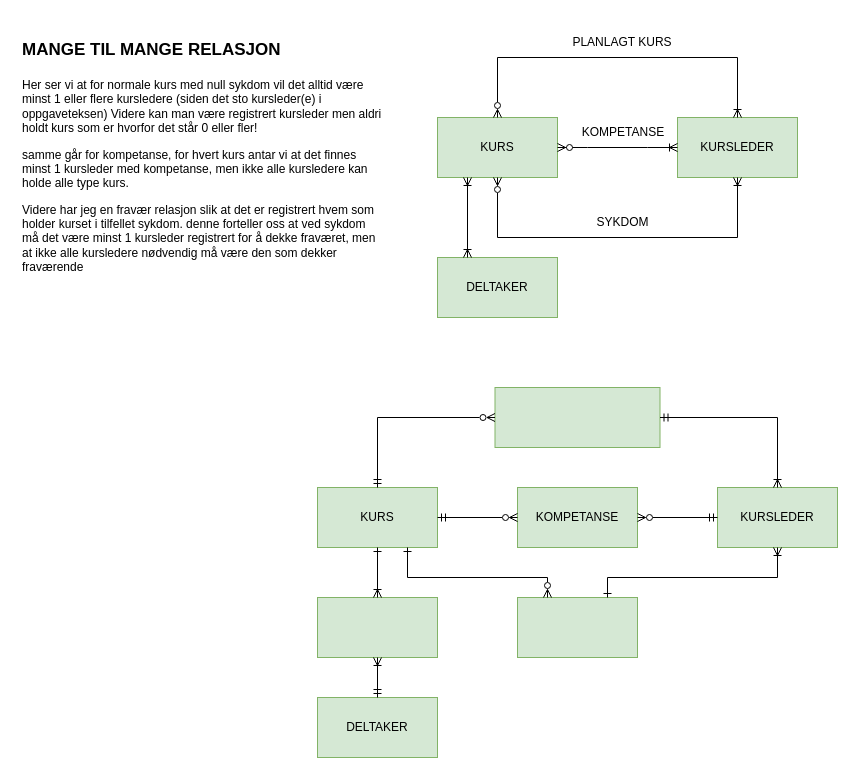
Some shapes in this 855 by 775 pixel diagram are drawn without their labels. Here are the shapes that lost their labels. From the top down, the box of each, then its label:
(494, 386, 660, 448): GJENNOMFØRING
(316, 596, 438, 658): KUNDEREGISTER/ HISTORIKK
(516, 596, 638, 658): FRAVÆR
